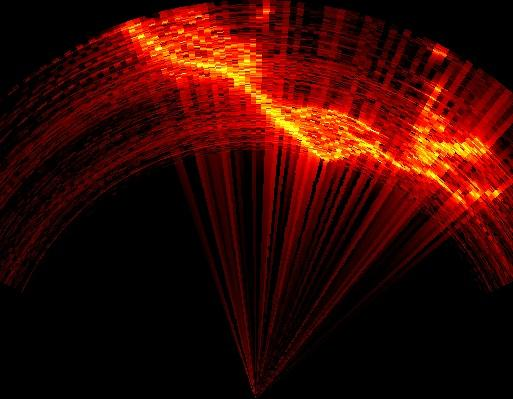shipwreck: (114, 4, 415, 170), (408, 138, 489, 162)
